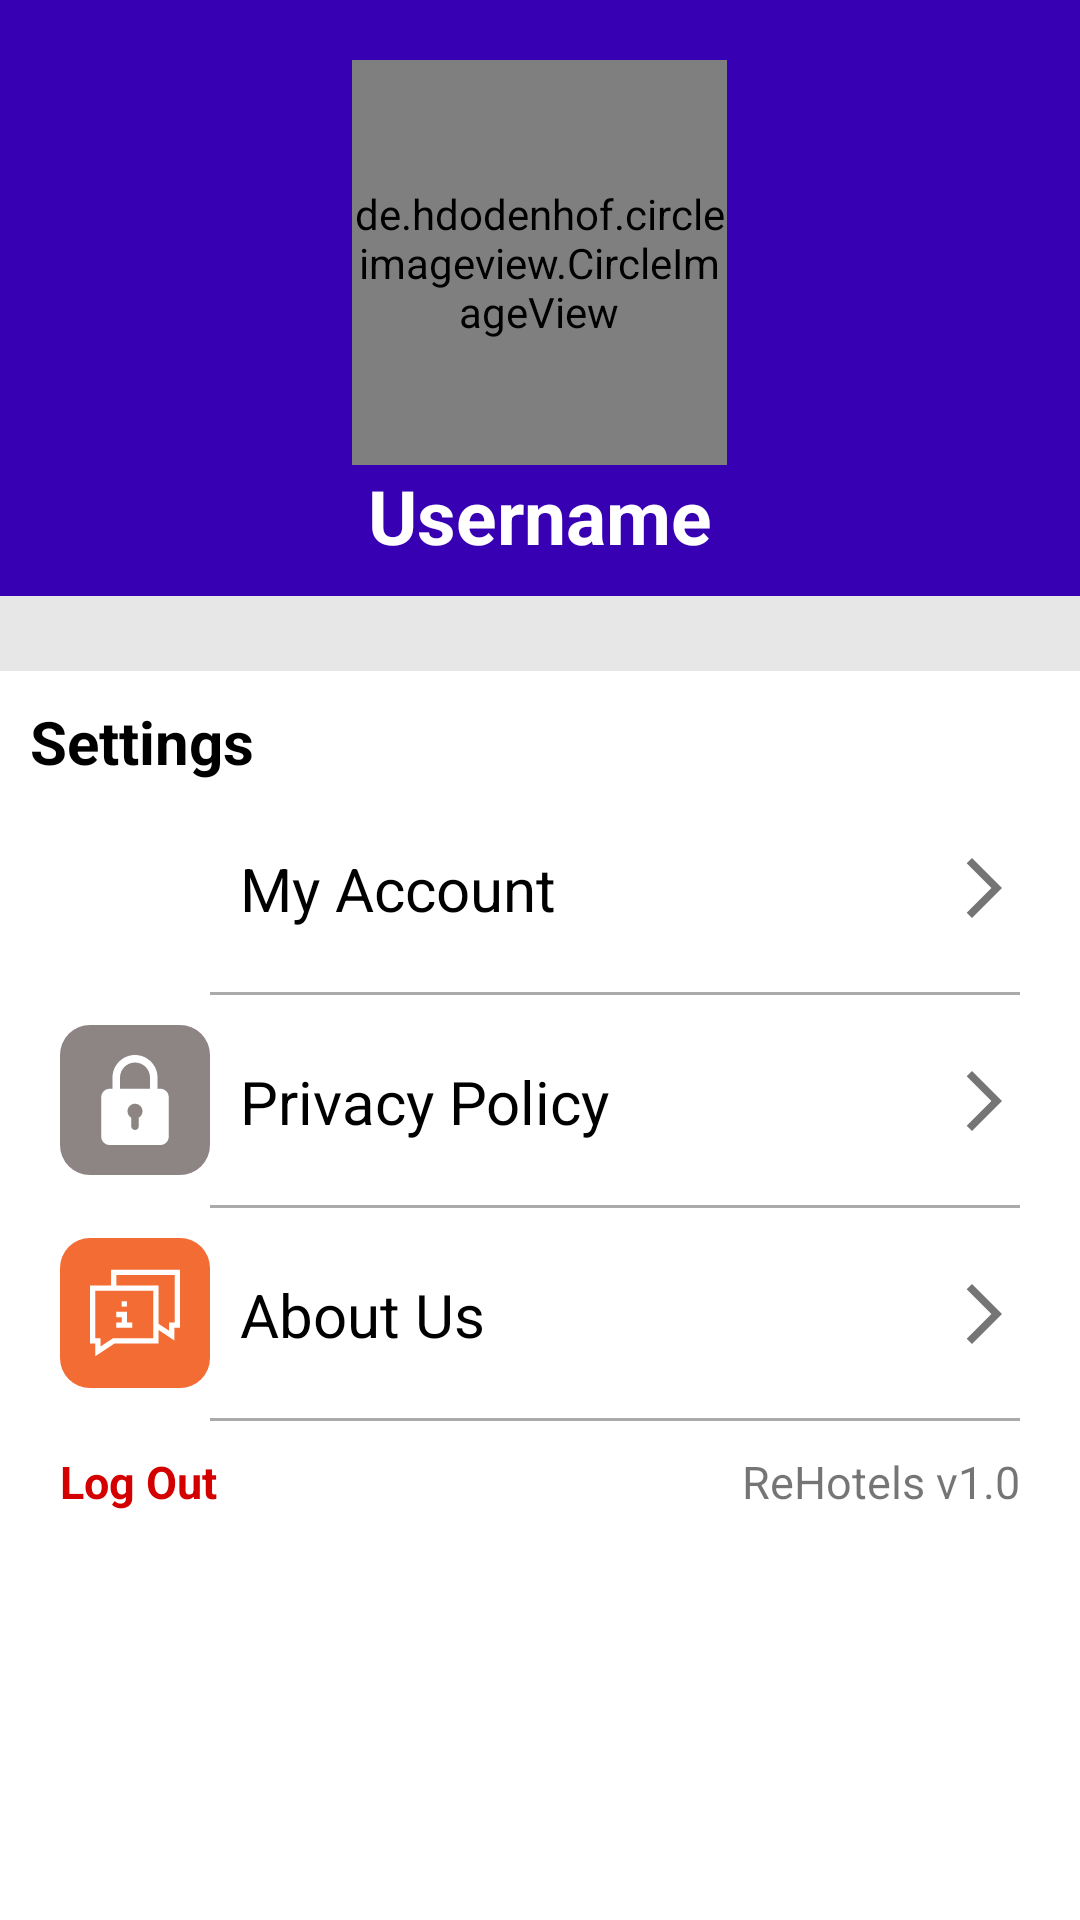

Where icons sit on this 1080*1920 app screen, as (x1, y1, x2, y2):
arrow: (967, 858, 1002, 918), (967, 1071, 1002, 1131), (967, 1284, 1002, 1344)
padlock: (60, 1025, 210, 1175)
